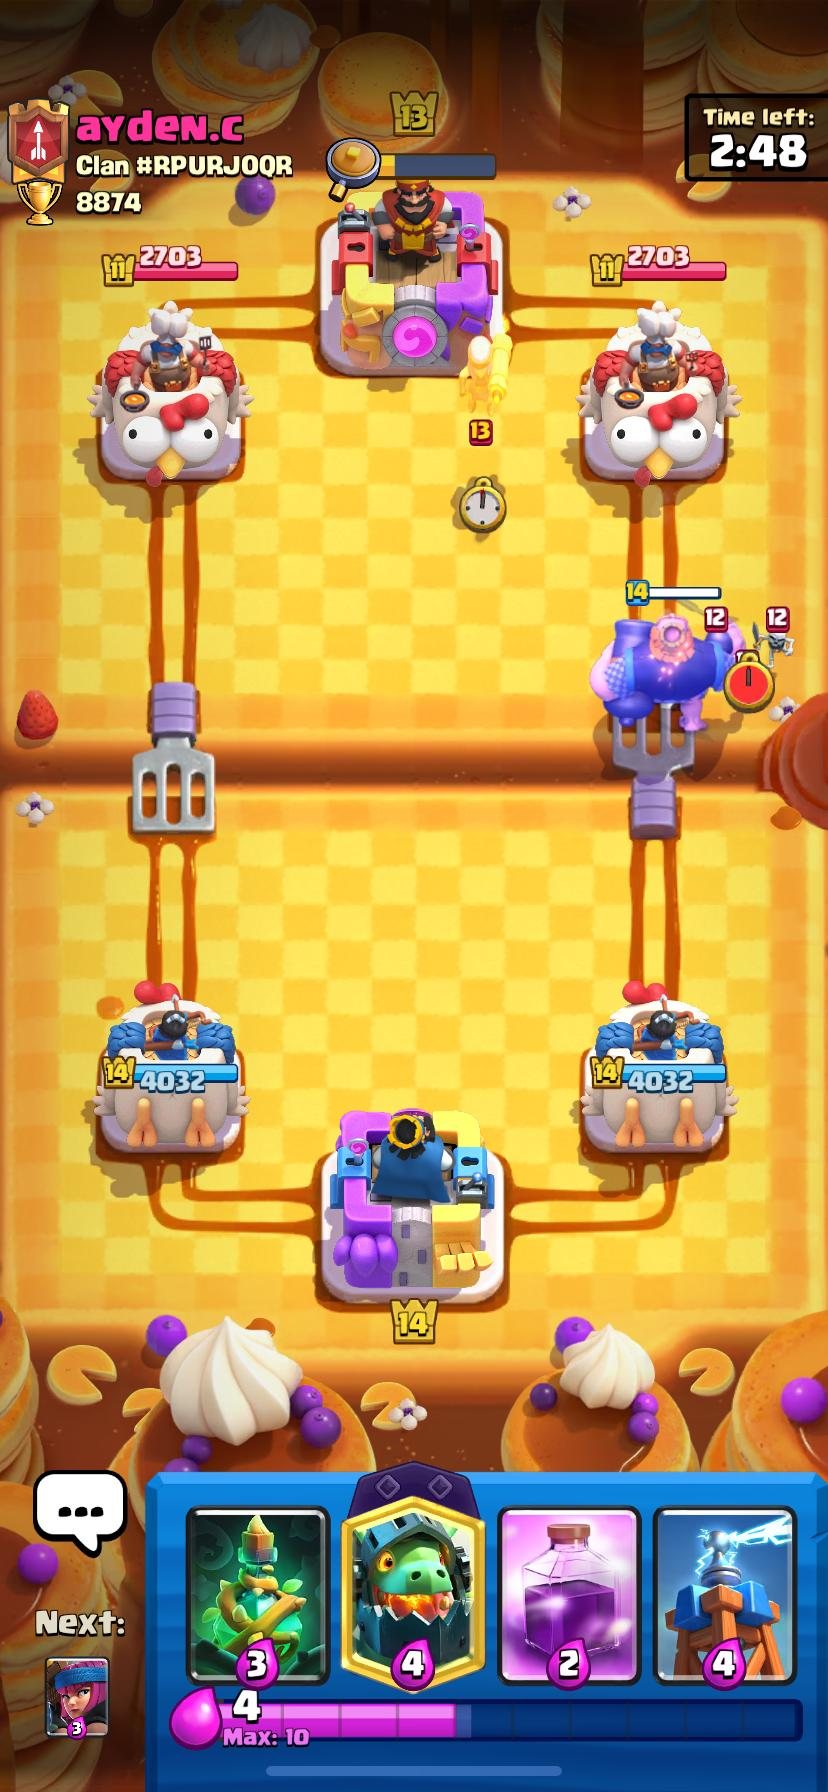EFirecrack: (460, 330, 511, 418)
EKingTower: (320, 178, 502, 378)
ELarry: (753, 606, 793, 671)
EnemyPanTower: (578, 301, 739, 488), (90, 301, 250, 486)
ORoyalG: (590, 614, 746, 734)
OwnKingTower: (321, 1109, 503, 1303)
OwnPrincessTower: (580, 982, 737, 1154), (93, 983, 248, 1152)
